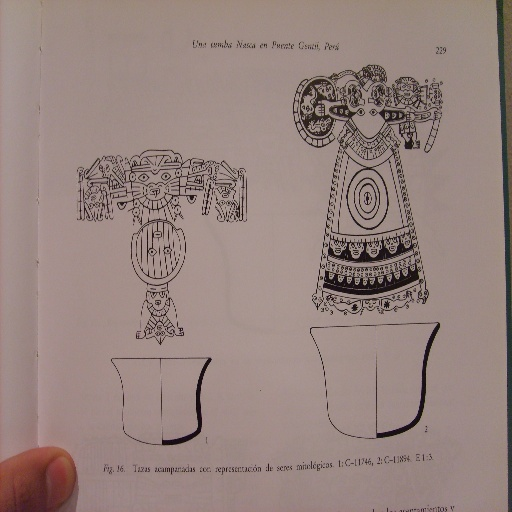hand: (0, 449, 77, 511)
